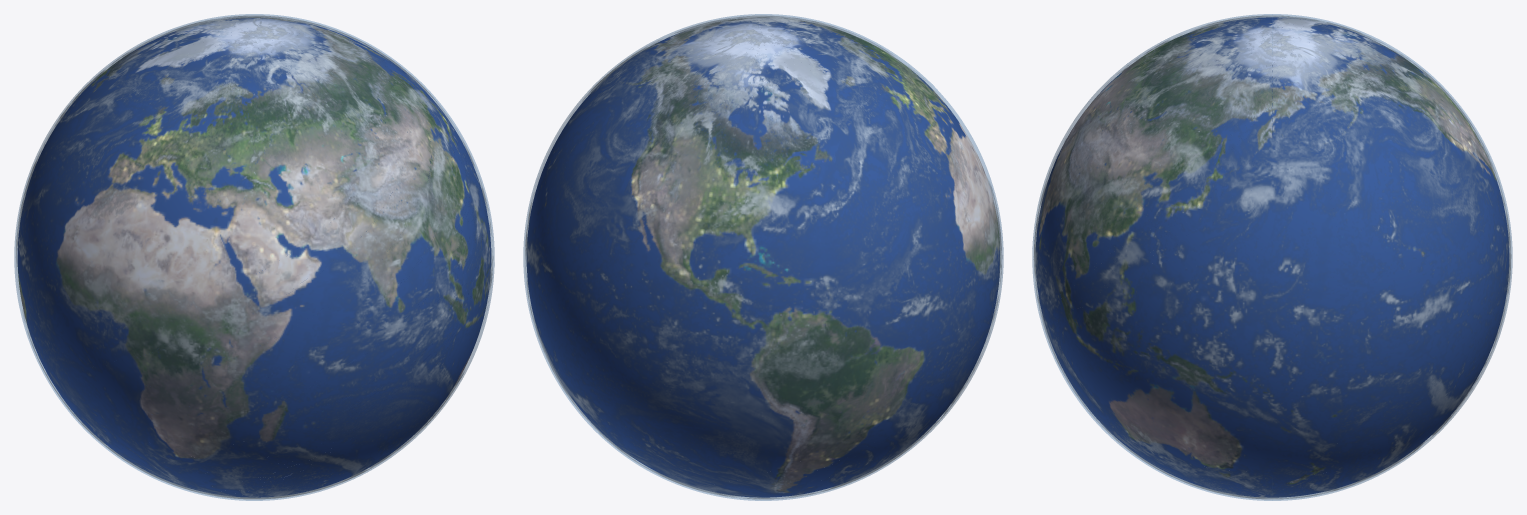
Rendered from earth_compressed(7).glb.
The picture shows the model from 3 angles, left to right: view 1: azimuth 30°, elevation 25°; view 2: azimuth 150°, elevation 25°; view 3: azimuth 270°, elevation 25°; orthographic projection.
Visible parts, largest first — view 1: pSphere5, pSphere1, pSphere4; view 2: pSphere5, pSphere1, pSphere4; view 3: pSphere5, pSphere1, pSphere4.
Part boxes in pixels (x1,y1,x2,y2): pSphere5: (14,14,494,500); pSphere1: (17,17,491,497); pSphere4: (16,15,493,499); pSphere5: (523,14,1003,500); pSphere1: (526,17,1000,497); pSphere4: (525,15,1002,499); pSphere5: (1032,14,1512,500); pSphere1: (1035,17,1509,497); pSphere4: (1034,15,1510,499).
Size of the model in its own units: 192 by 196 by 192.
3 materials, 2 textured.
